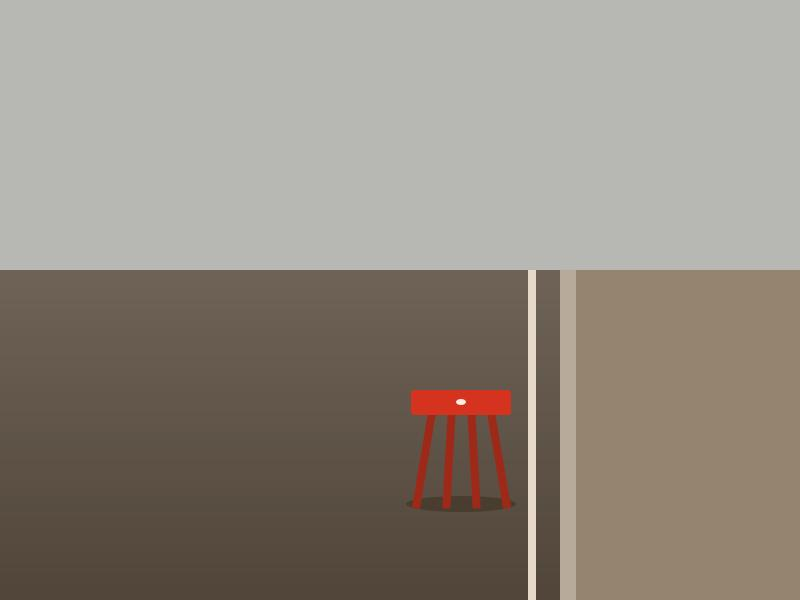ROAD_OBSTACLE: (411, 390, 511, 504)
